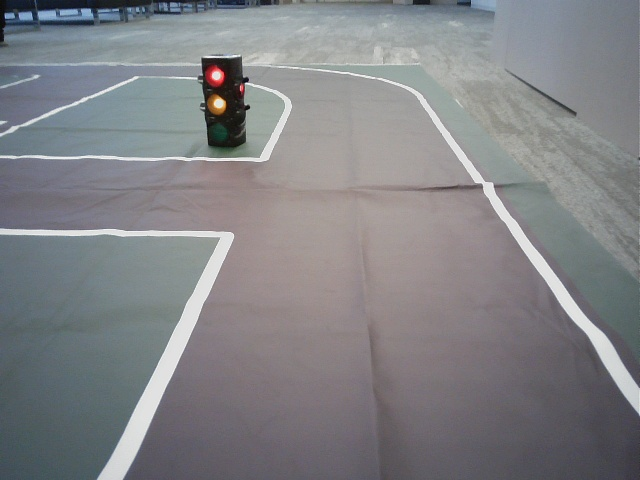red: (200, 59, 232, 141)
